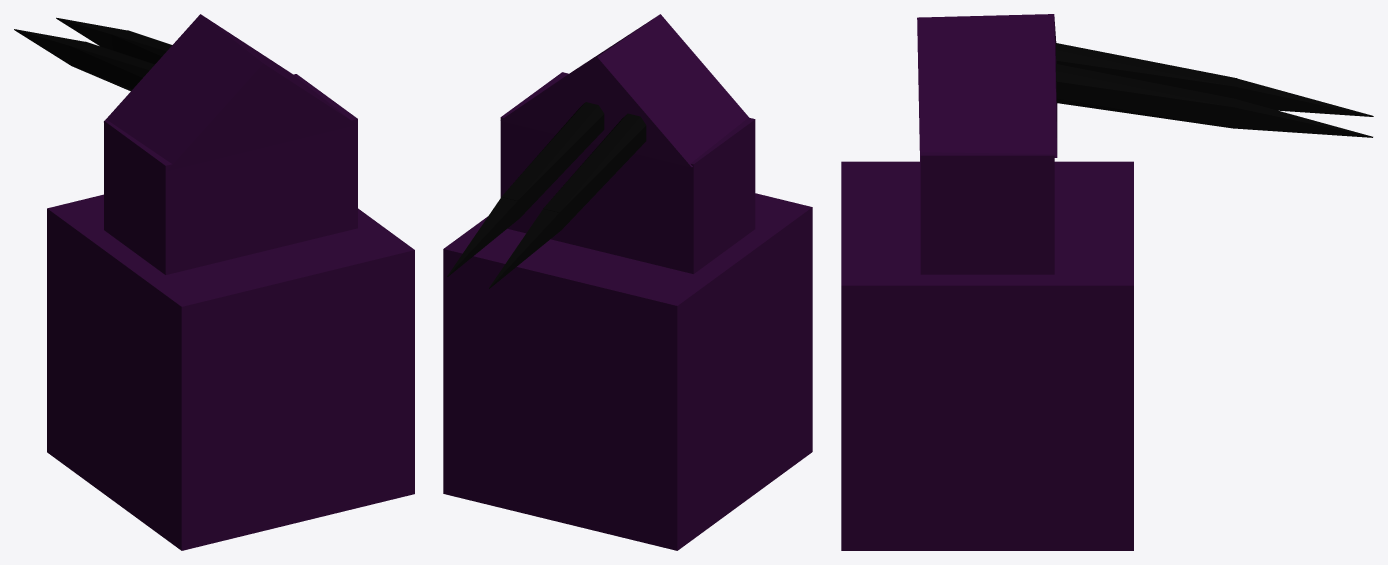
Rendered from protectiontower1_level2_28.fbx.
The picture shows the model from 3 angles, left to right: view 1: azimuth 30°, elevation 25°; view 2: azimuth 150°, elevation 25°; view 3: azimuth 270°, elevation 25°; orthographic projection. The views are drawn at different scales.
Parts seen in each view (by area): view 1: Tower, Cannon, Cannon.001; view 2: Tower, Cannon, Cannon.001; view 3: Tower, Cannon.001, Cannon.
Part boxes in pixels (<box>): Tower: <box>47,14,414,550</box>; Cannon: <box>14,29,154,91</box>; Cannon.001: <box>56,17,172,64</box>; Tower: <box>443,14,812,550</box>; Cannon: <box>489,113,646,288</box>; Cannon.001: <box>447,102,604,276</box>; Tower: <box>841,14,1133,550</box>; Cannon.001: <box>1056,64,1372,137</box>; Cannon: <box>1056,43,1373,116</box>.
Bounding box in the file's own units: 902 × 1615 × 1640.
